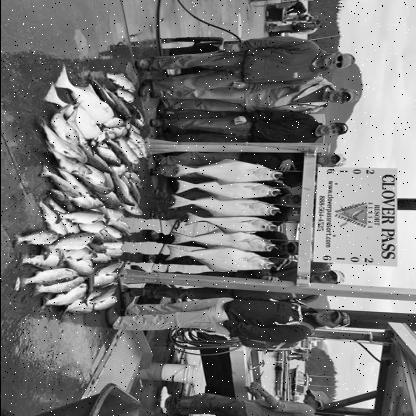fish: (55, 64, 113, 124), (174, 157, 284, 183), (164, 244, 274, 270), (170, 226, 274, 252), (169, 192, 280, 216), (176, 178, 283, 200), (186, 211, 278, 233), (38, 232, 94, 260), (38, 164, 84, 198), (41, 121, 82, 158), (30, 274, 88, 298), (40, 283, 92, 309), (22, 268, 80, 288), (52, 103, 78, 146), (49, 150, 92, 174), (60, 296, 98, 318), (13, 232, 63, 247), (52, 210, 104, 224), (20, 255, 64, 269), (69, 194, 103, 209)
